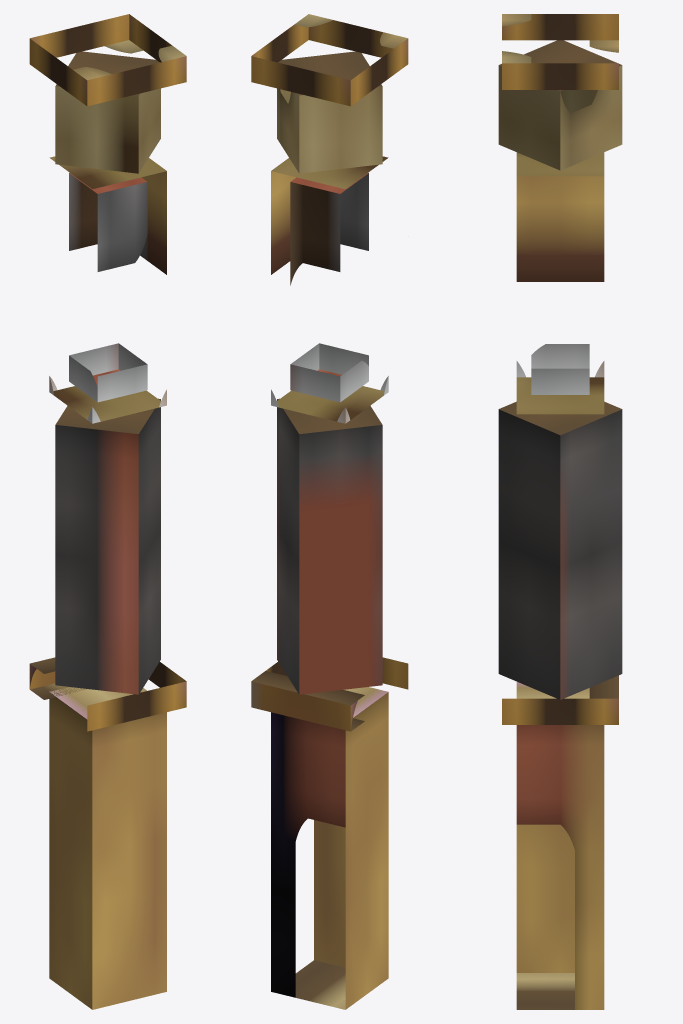
Rendered from 对称之杖.obj.
3 renders of one model, left to right at view 1: azimuth 30°, elevation 25°; view 2: azimuth 150°, elevation 25°; view 3: azimuth 270°, elevation 25°, orthographic.
Visible parts, largest first — view 1: Grip Core, Rod Bottom Core, Rod Core, Rod Top Core, Cap, Cube, Grip Cap; view 2: Grip Core, Rod Bottom Core, Rod Core, Rod Top Core, Cap, Cube, Grip Cap; view 3: Rod Bottom Core, Grip Core, Cube, Rod Top Core, Cap, Grip Cap, Rod Core.
Part boxes in pixels (box(x1,y1,x2,y2)): Grip Core: box(49, 687, 166, 1009); Rod Bottom Core: box(55, 398, 160, 694); Rod Core: box(69, 173, 147, 402); Rod Top Core: box(55, 51, 160, 173); Cap: box(29, 14, 186, 106); Cube: box(49, 156, 166, 423); Grip Cap: box(29, 657, 186, 731); Grip Core: box(271, 687, 388, 1009); Rod Bottom Core: box(277, 398, 382, 694); Rod Core: box(290, 173, 368, 402); Rod Top Core: box(277, 51, 382, 173); Cap: box(251, 14, 408, 106); Cube: box(271, 156, 388, 423); Grip Cap: box(251, 657, 408, 731); Rod Bottom Core: box(498, 401, 622, 699); Grip Core: box(516, 682, 604, 1009); Cube: box(516, 152, 604, 414); Rod Top Core: box(498, 40, 622, 170); Cap: box(502, 14, 618, 89); Grip Cap: box(502, 675, 618, 724); Rod Core: box(531, 344, 589, 394).
Size of the model in its own units: 0.4419 by 2.25 by 0.4634.
Materials: 1 (1 with a texture image).
